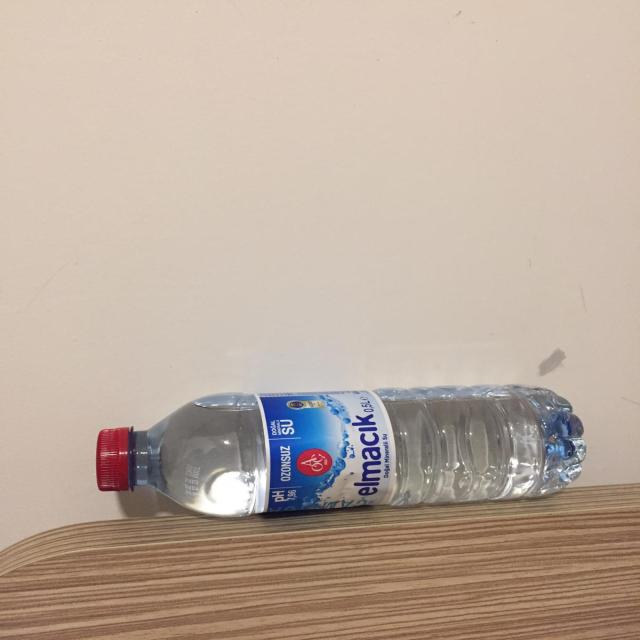bottle: (95, 383, 586, 518)
